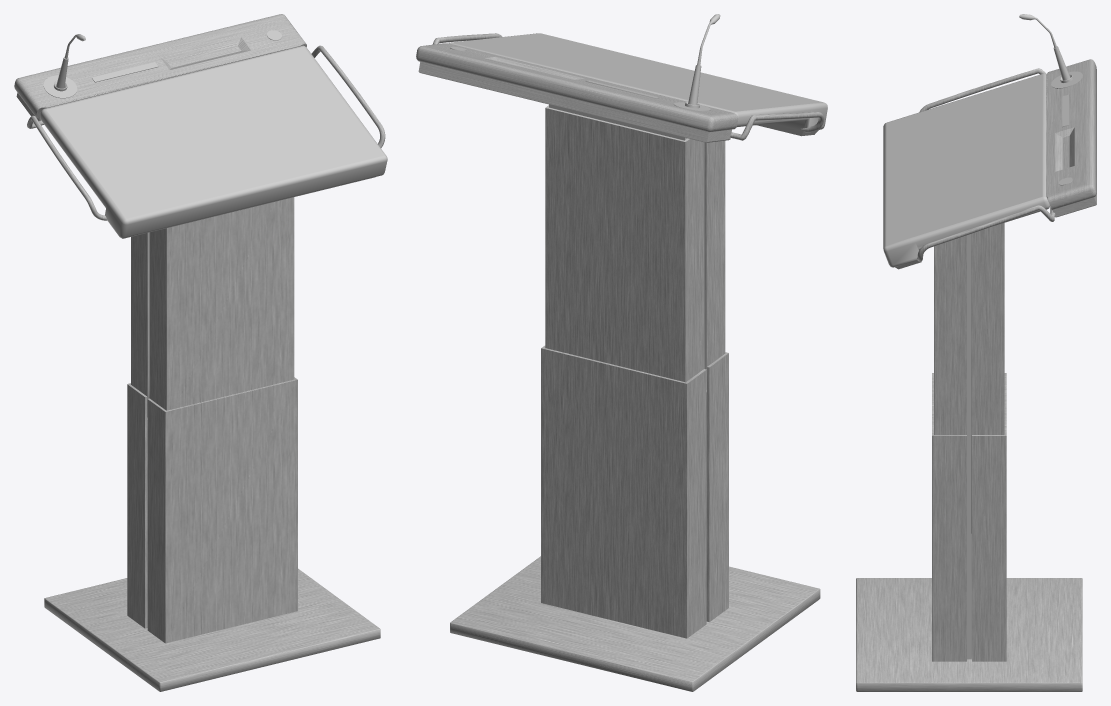
Rendered from podium.fbx.
3 views of the same model, side by side, from view 1: azimuth 30°, elevation 25°; view 2: azimuth 150°, elevation 25°; view 3: azimuth 270°, elevation 25° (orthographic). The views are drawn at different scales.
Parts seen in each view (by area): view 1: digital lectern 1; view 2: digital lectern 1; view 3: digital lectern 1.
Boxes of the visible parts, <box> form: digital lectern 1: <box>14,14,387,691</box>; digital lectern 1: <box>416,14,827,691</box>; digital lectern 1: <box>856,14,1096,691</box>.
Size of the model in its own units: 67.11 by 128 by 48.35.
